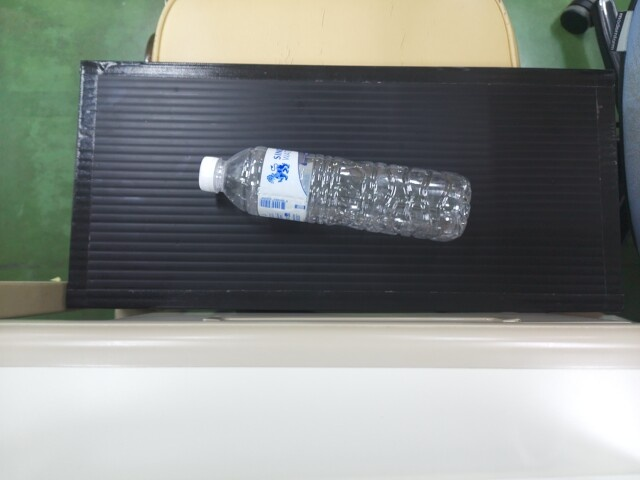plastic_bottle: (193, 143, 468, 243)
